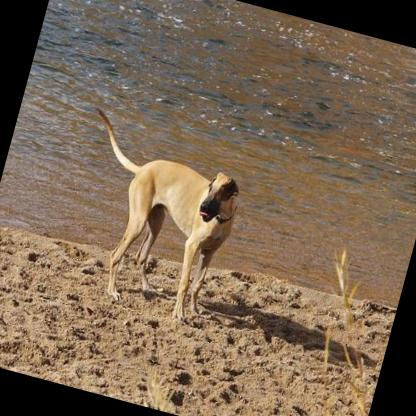Great_Dane: (48, 106, 254, 326)
